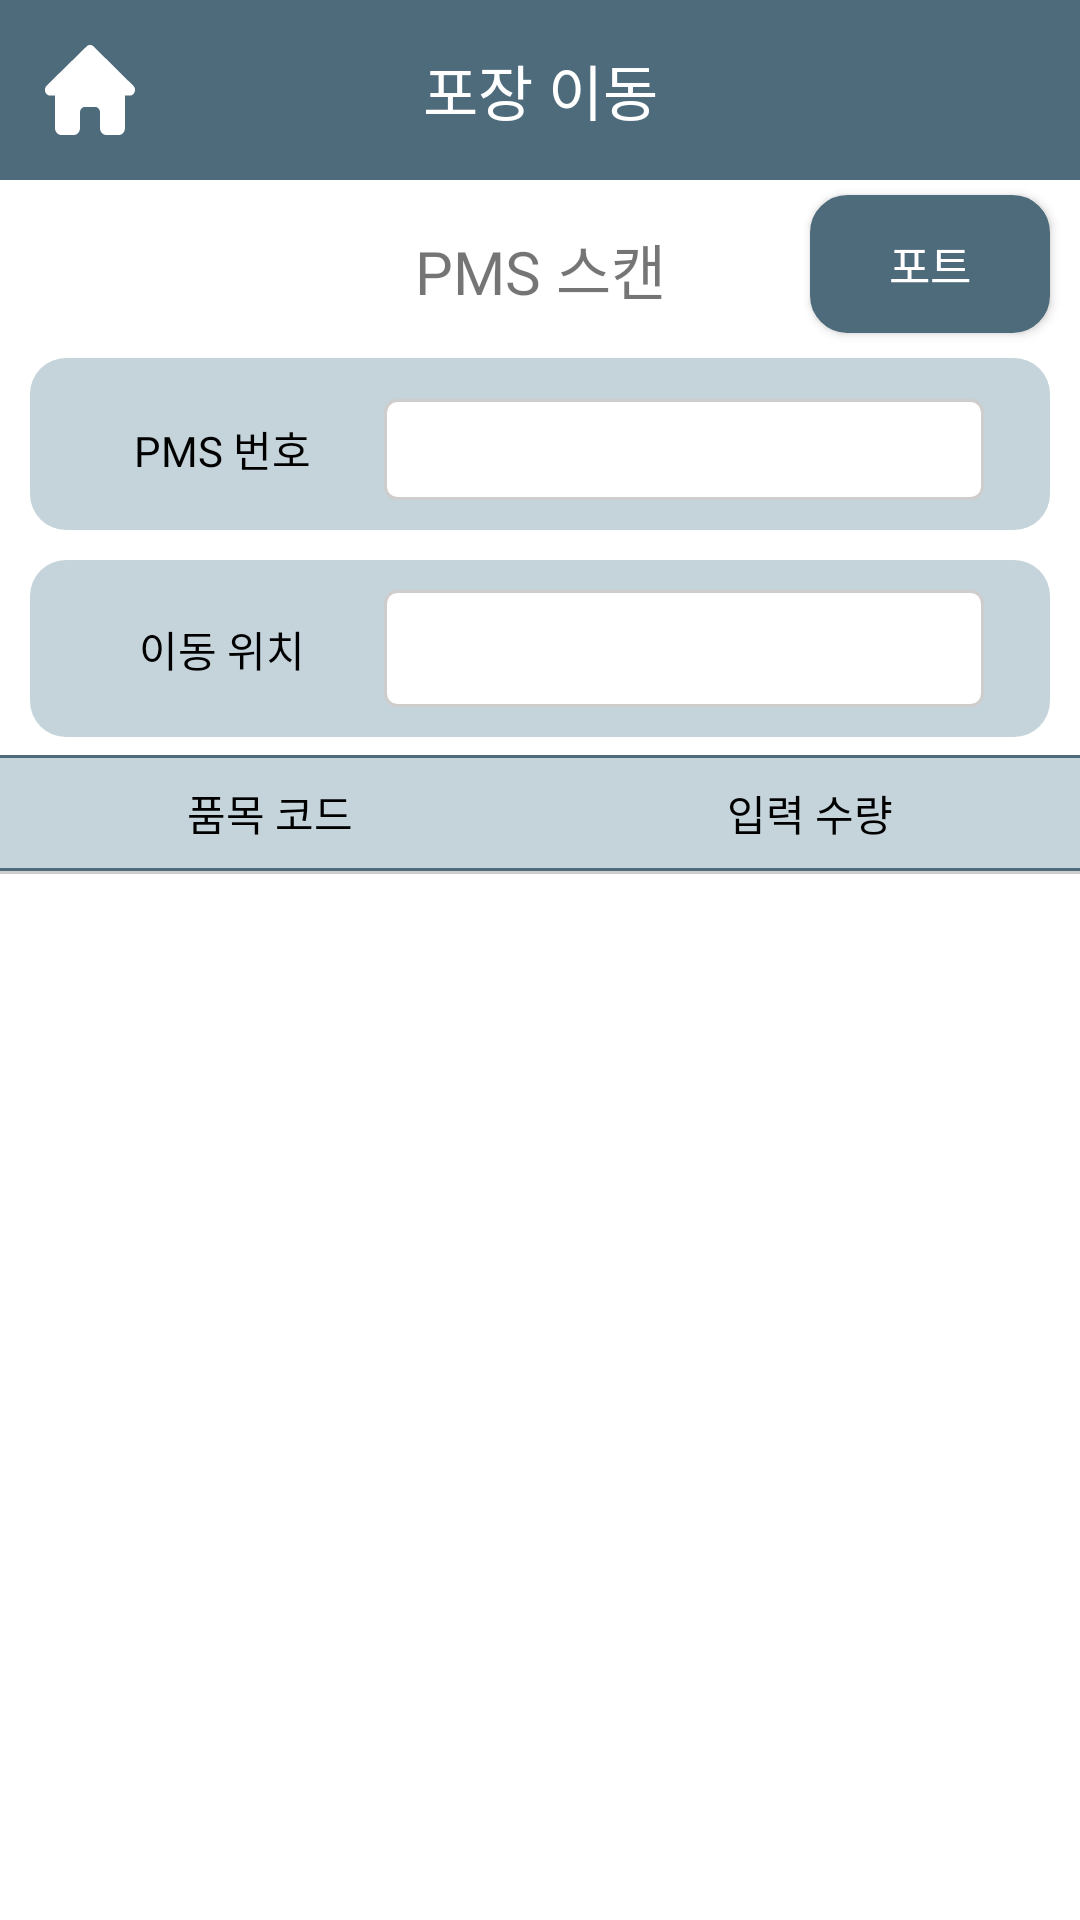

Point at icon controls on the screen. Image size 1080w x 1920h, points as [x,y].
house: [90,90]
